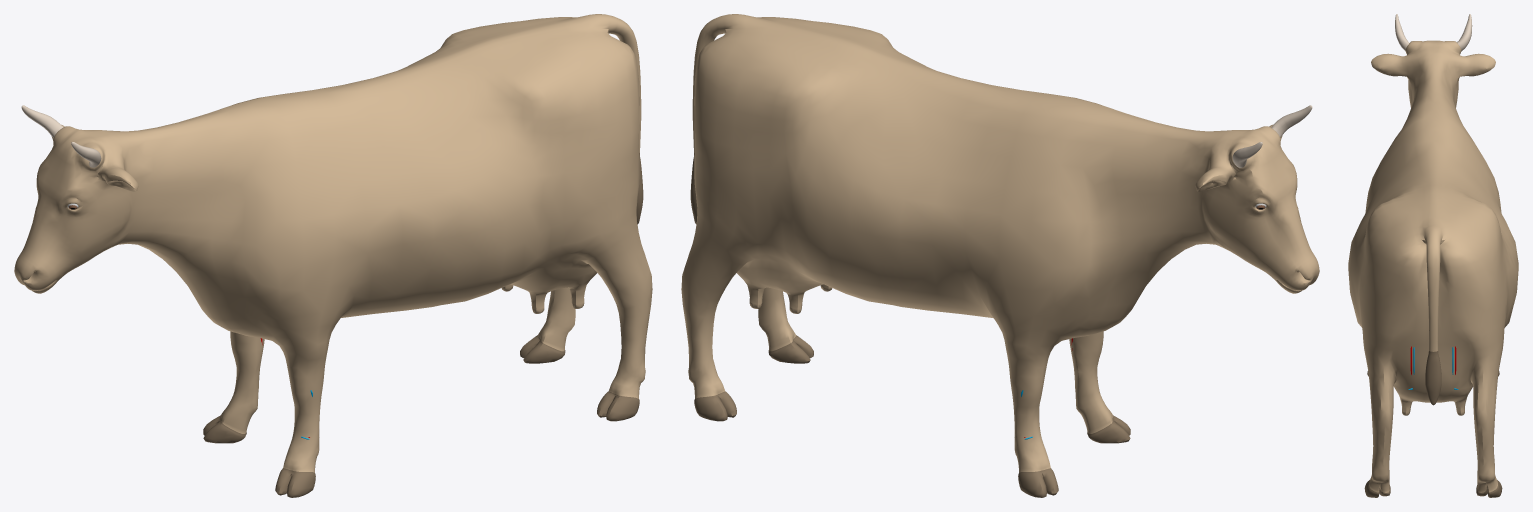
The model's file is bessie-anatomy.glb.
3 views of the same model, side by side, from view 1: azimuth 30°, elevation 25°; view 2: azimuth 150°, elevation 25°; view 3: azimuth 270°, elevation 25° (orthographic). The views are drawn at different scales.
Visible parts, largest first — view 1: body, Skeletal; view 2: body, Skeletal; view 3: body, Skeletal, Circulatory_System.
Boxes of the visible parts, x1,y1,x2,y2 form: body: (14,14,652,497); Skeletal: (21,105,101,167); body: (681,14,1319,497); Skeletal: (1232,105,1312,167); body: (1348,40,1518,497); Skeletal: (1395,14,1472,51); Circulatory_System: (1408,346,1458,389).
Bounding box in the file's own units: 160 × 96.39 × 51.52.
